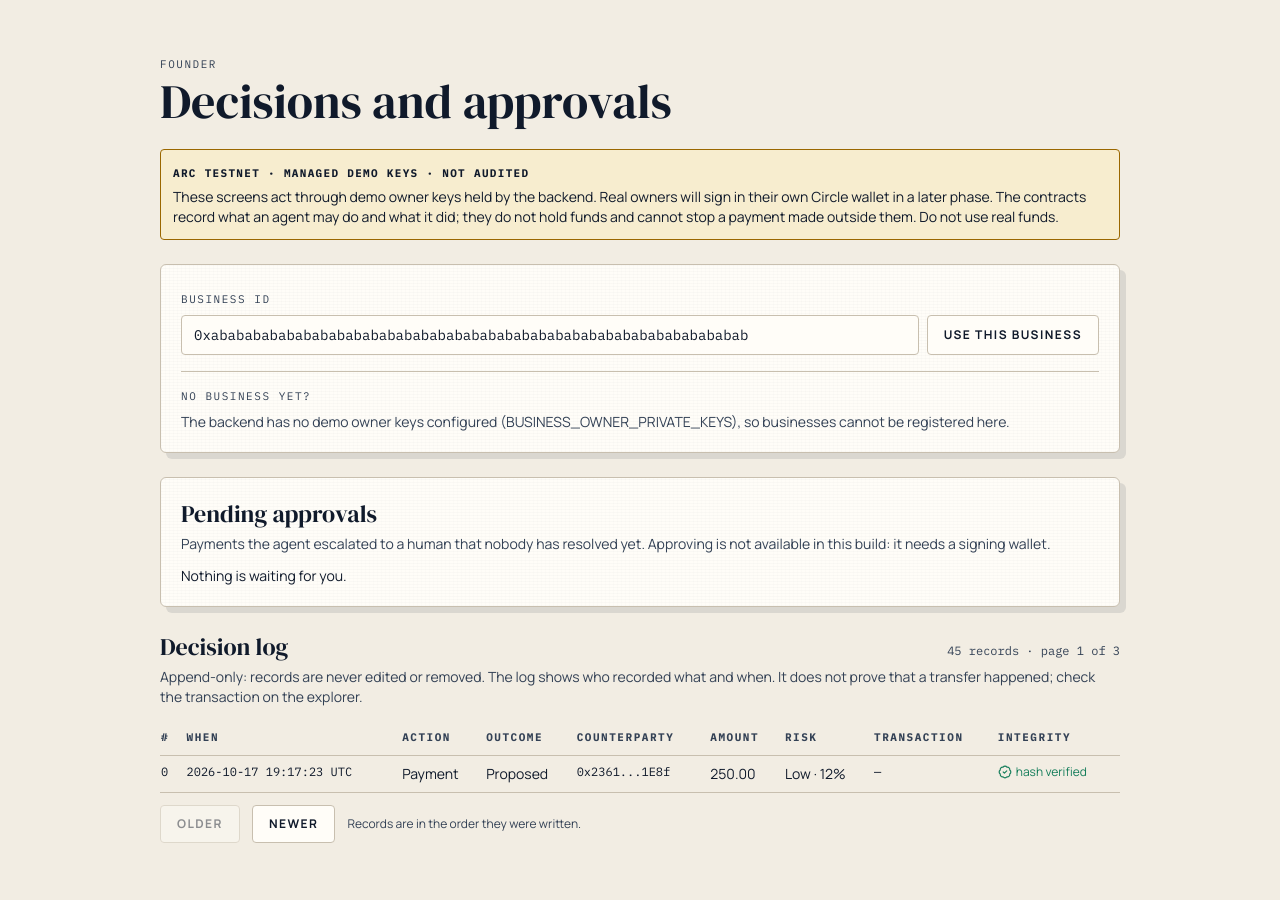
Test case: Founder: decisions and approvals › pages through the log
Expected: the text "45 records · page 1 of 3" is shown, [947,643,1120,659]
Expected: the button "Older" is disabled, [160,805,240,843]
Click the button "Newer".
click(294, 824)  # box [252,805,336,843]
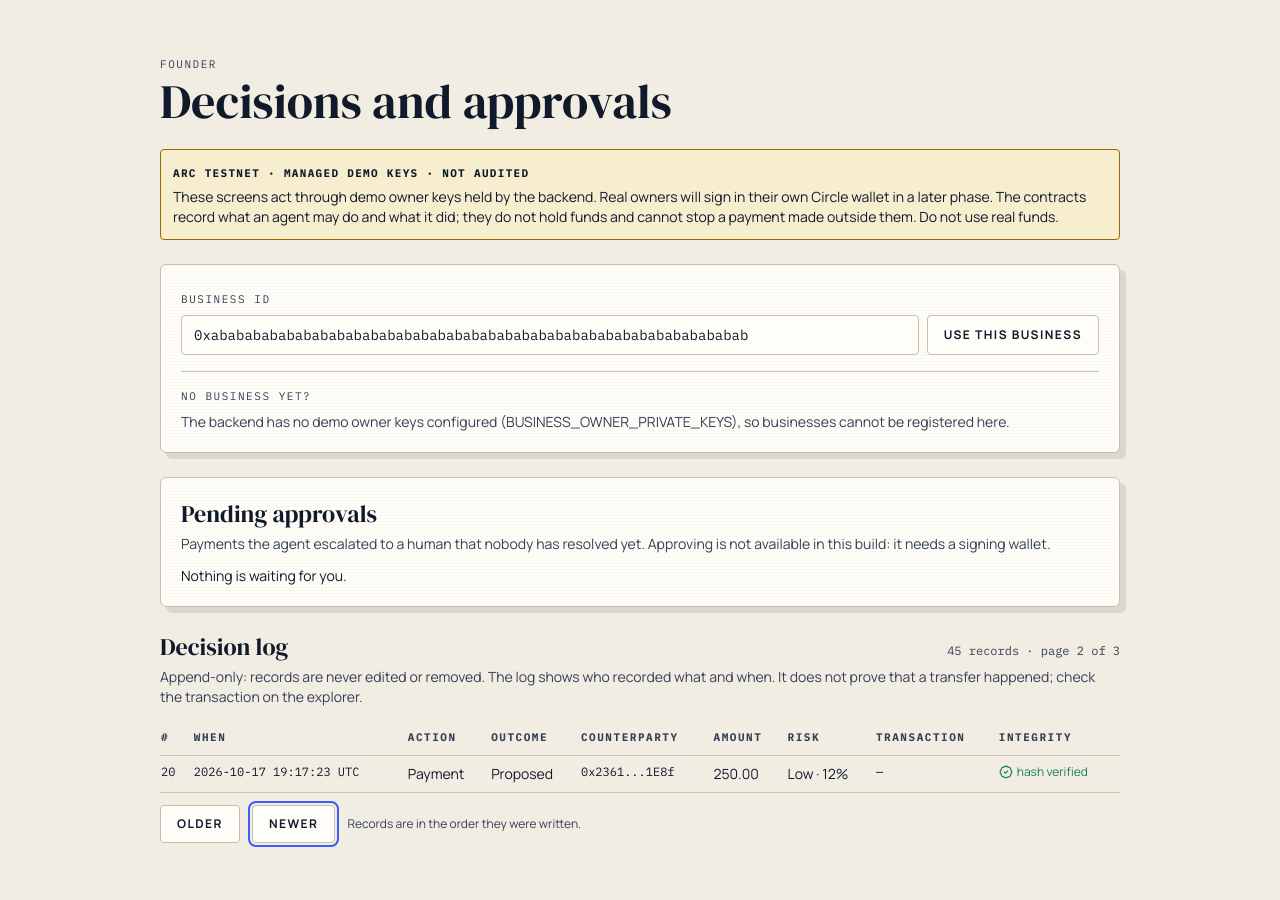
Expected: the text "45 records · page 2 of 3" is shown, [947,643,1120,659]
